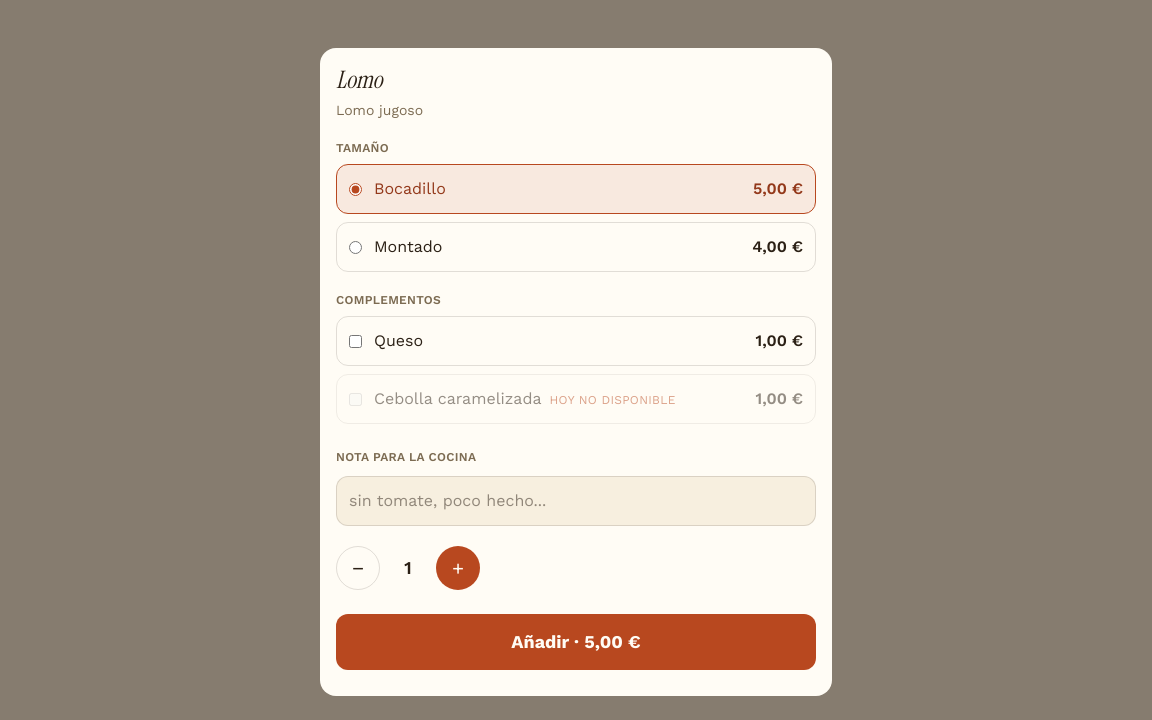
Test case: FichaArticulo › recalcula el total al cambiar de tamaño
The width and height of the screenshot is (1152, 720).
Click the radio button labelled "Montado 4,00 €": {"x": 356, "y": 247} x1=349 y1=240 x2=362 y2=254
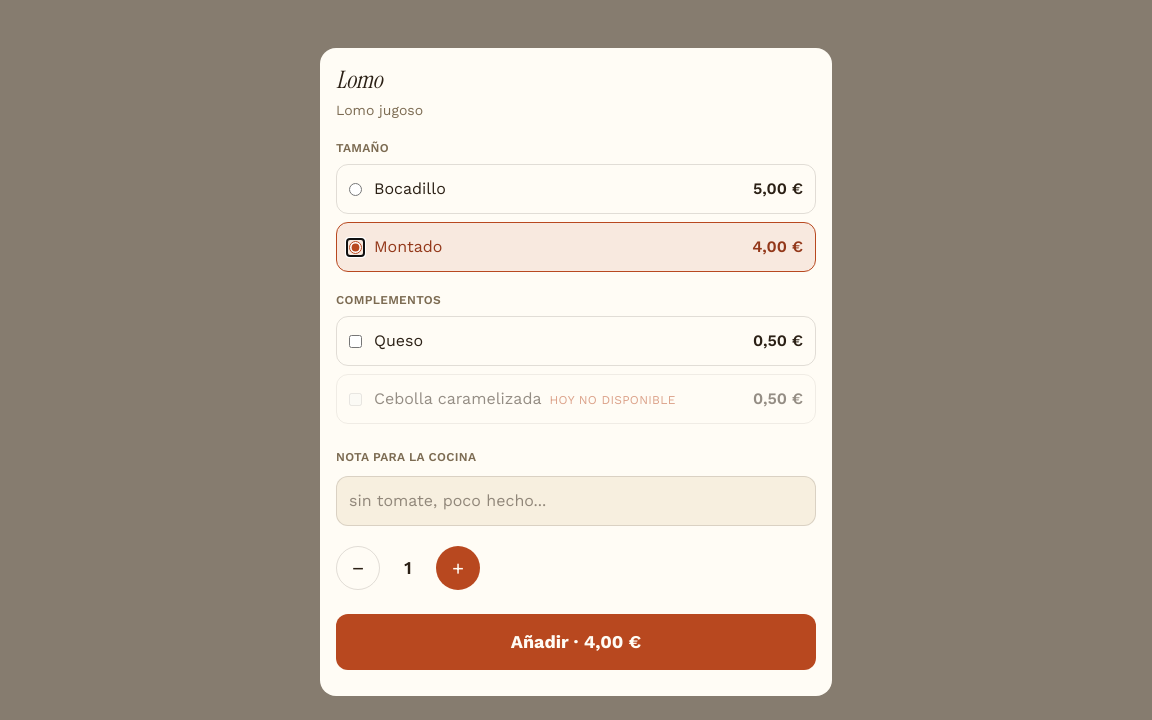
Check: the button "Añadir · 4,00 €" is shown, box x1=336 y1=614 x2=816 y2=670
